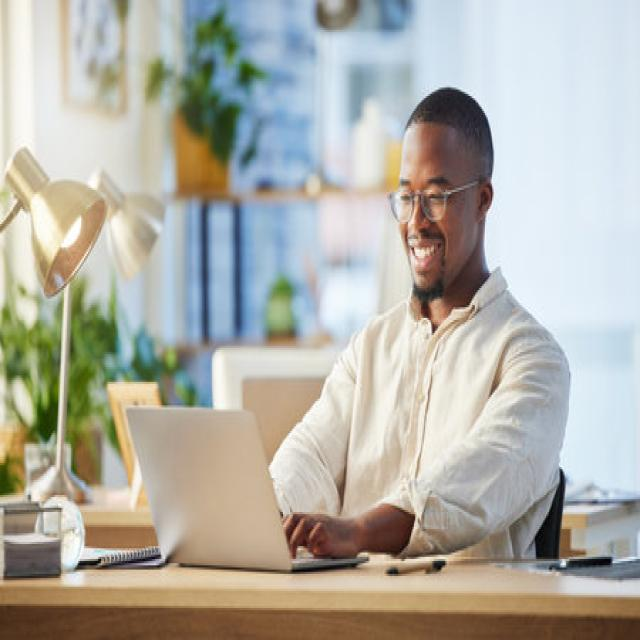notebook-person: (116, 73, 578, 590)
